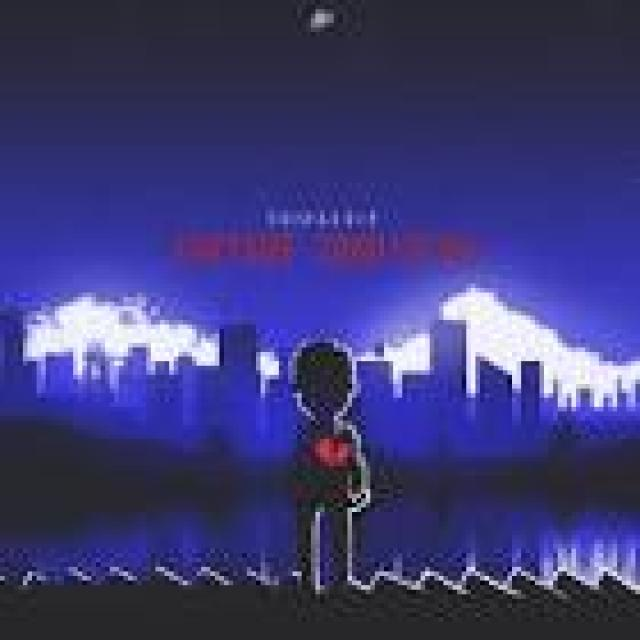dead_pixel: (296, 4, 356, 48)
